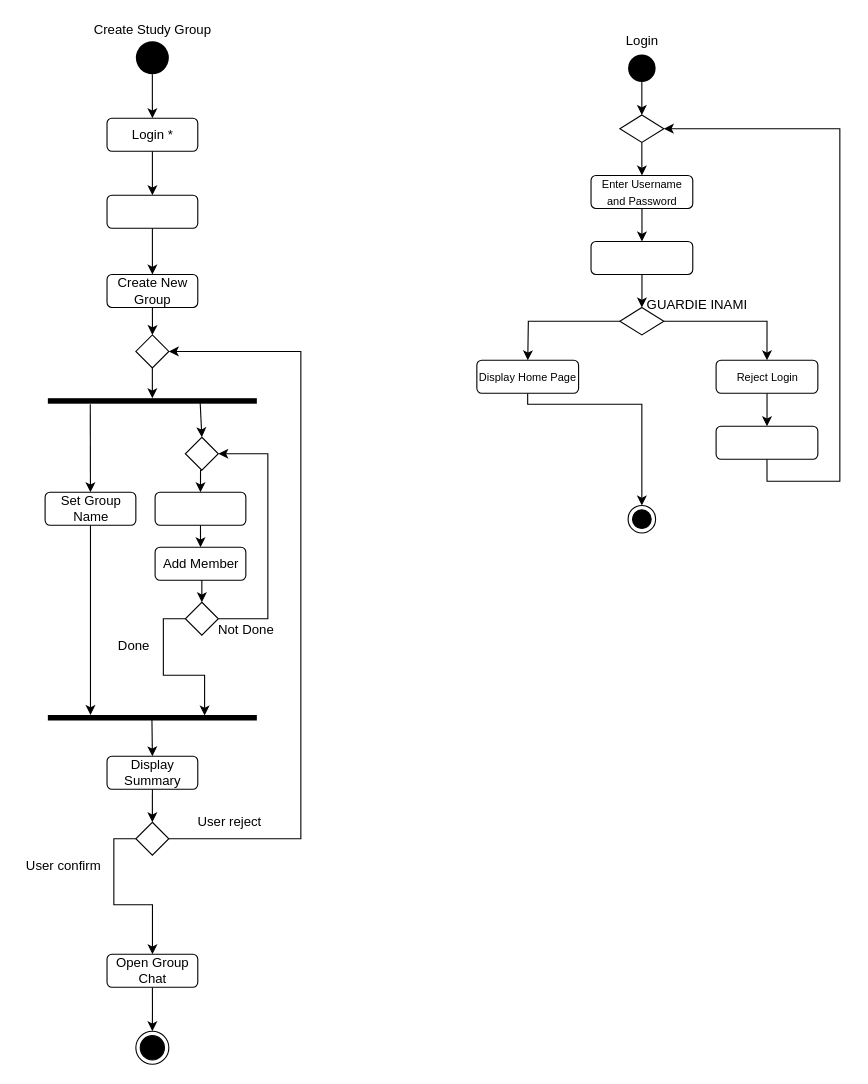
Image size: 868x1084. Some labels were removed from this diagram. Each missing label, with the centre of its shape:
Display Error Message: pixel 766 442
Open Group Section: pixel 152 211
Search User: pixel 200 508
Verify Username and Password: pixel 641 257
